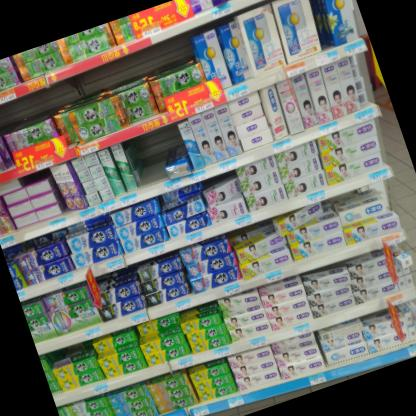empty_space: (124, 132, 173, 199)
